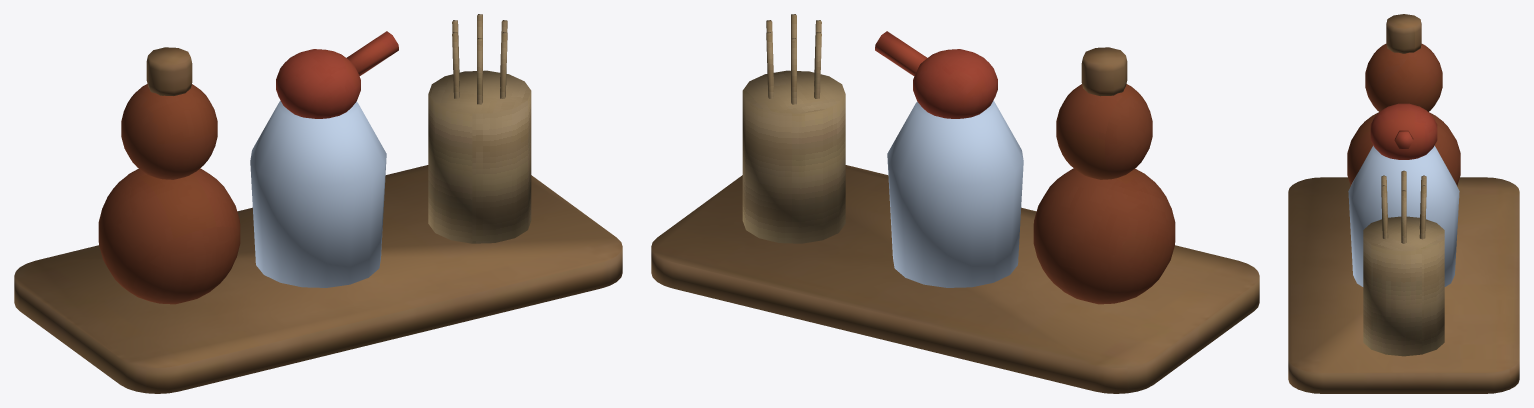
File: condiments.glb
The picture shows the model from 3 angles, left to right: view 1: azimuth 30°, elevation 25°; view 2: azimuth 150°, elevation 25°; view 3: azimuth 270°, elevation 25°; orthographic projection. The views are drawn at different scales.
Parts seen in each view (by area): view 1: condiments_wood, condiments_felt_rust, condiments_glass, condiments_wood_light, condiments_felt_red; view 2: condiments_wood, condiments_felt_rust, condiments_glass, condiments_wood_light, condiments_felt_red; view 3: condiments_wood, condiments_wood_light, condiments_glass, condiments_felt_rust, condiments_felt_red.
Part boxes in pixels (x1,y1,x2,y2): condiments_wood: (14,47,622,393); condiments_felt_rust: (98,84,240,304); condiments_glass: (250,101,386,287); condiments_wood_light: (428,14,531,243); condiments_felt_red: (276,31,398,118); condiments_wood: (651,47,1259,393); condiments_felt_rust: (1033,84,1175,304); condiments_glass: (887,101,1023,287); condiments_wood_light: (742,14,845,243); condiments_felt_red: (875,31,997,118); condiments_wood: (1288,14,1519,393); condiments_wood_light: (1363,170,1444,356); condiments_glass: (1348,145,1459,286); condiments_felt_rust: (1347,44,1460,185); condiments_felt_red: (1370,103,1437,159).
Size of the model in its own units: 0.4 by 0.206 by 0.2.
Materials: 6 (5 with a texture image).
